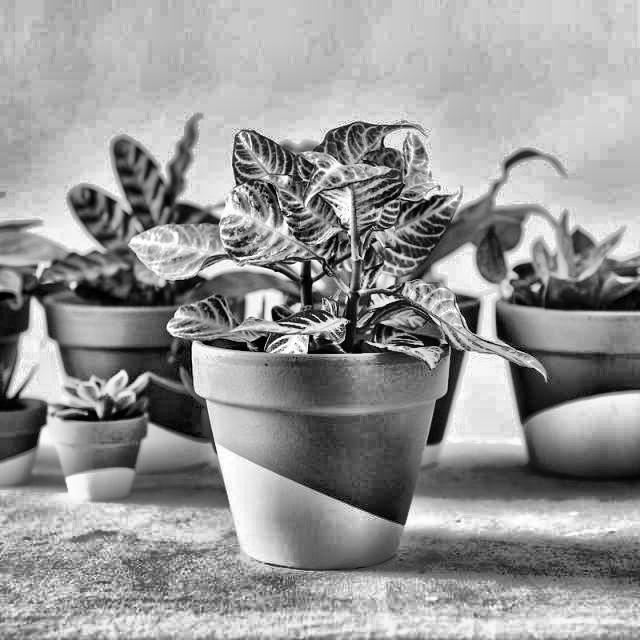plants: (185, 111, 459, 572), (493, 221, 639, 512), (32, 136, 174, 359), (49, 372, 152, 506)
